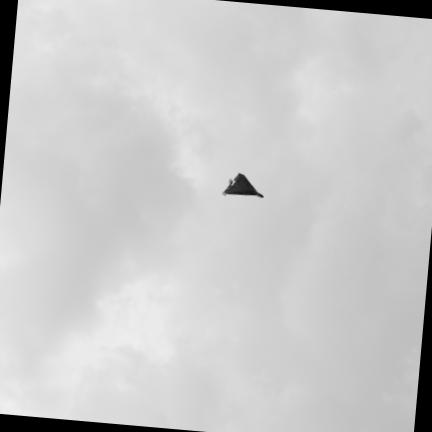Shahed: (223, 173, 263, 197)
